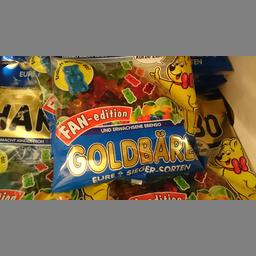candy: (48, 52, 207, 190)
